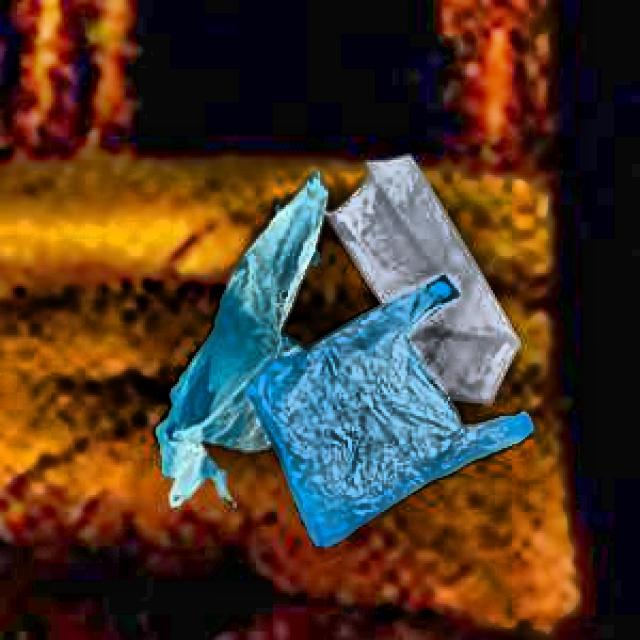Plastic: (252, 269, 546, 563), (306, 133, 526, 424), (150, 171, 346, 494)
